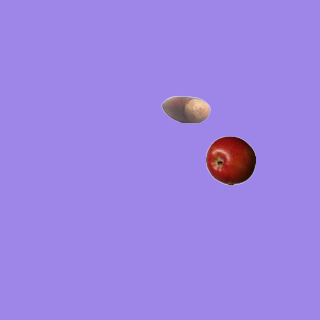Apple Braeburn: (205, 135, 255, 185)
Hazelnut: (160, 84, 210, 134)
